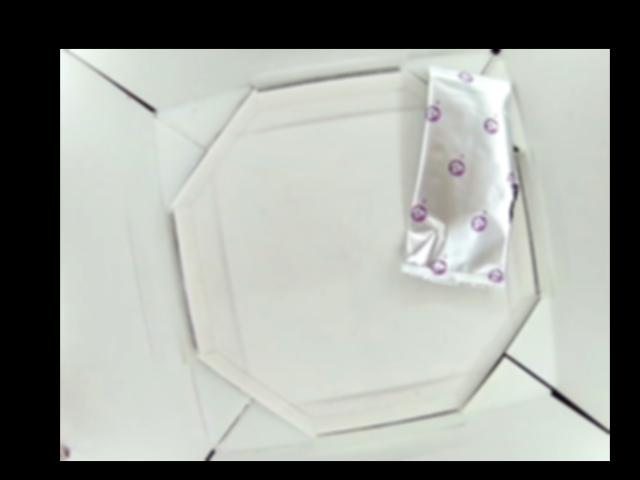Medicine: (399, 67, 522, 291)
